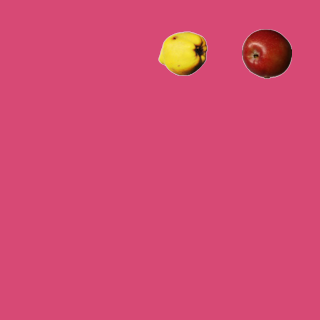Apple Braeburn: (241, 28, 291, 78)
Quince: (157, 28, 207, 78)
